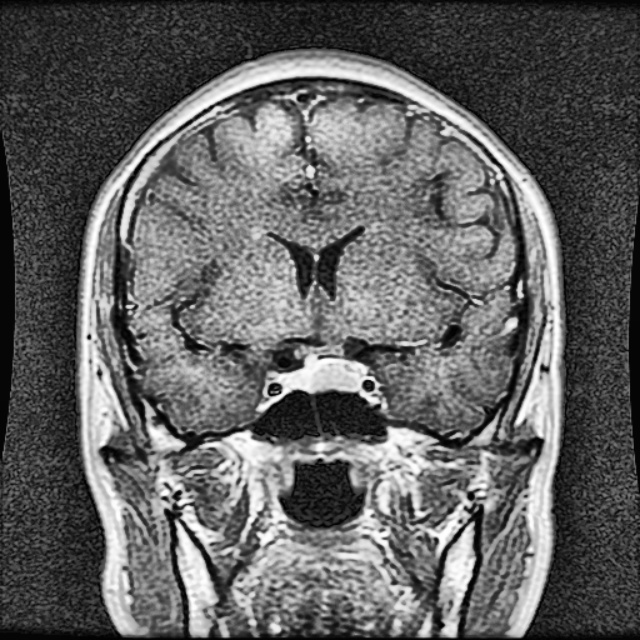Pituitary: (287, 354, 365, 392)
